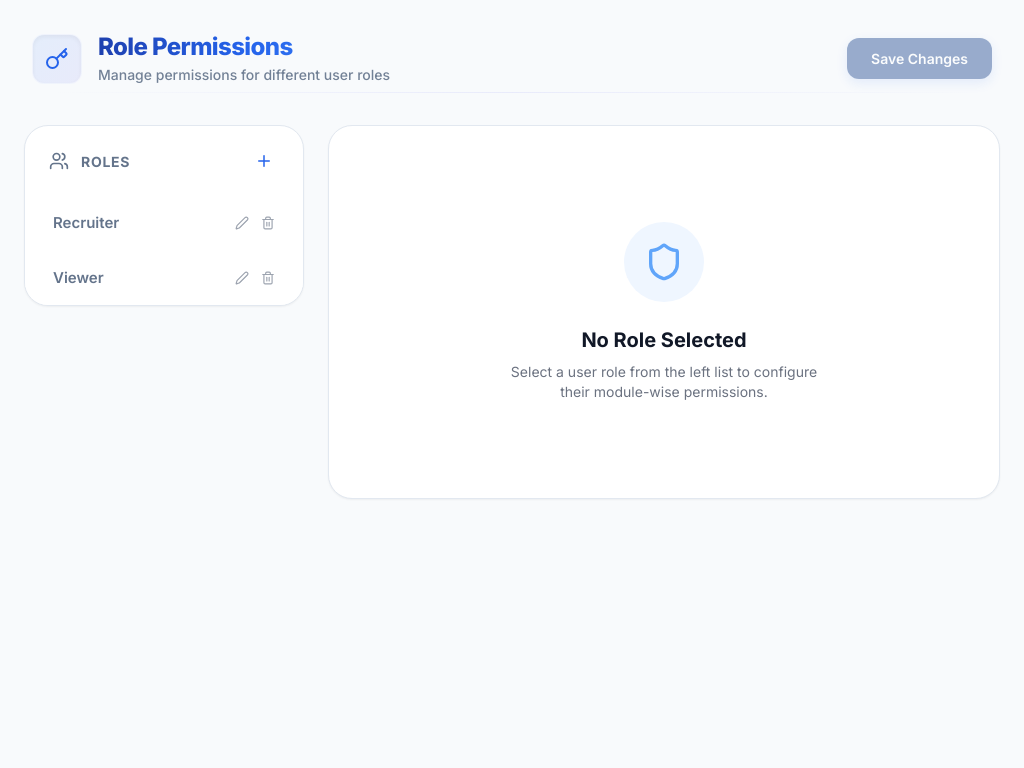
Test: blocks saving after a failed load and allows retrying that role
Click the button "Recruiter": [86, 223] box [53,212,119,234]
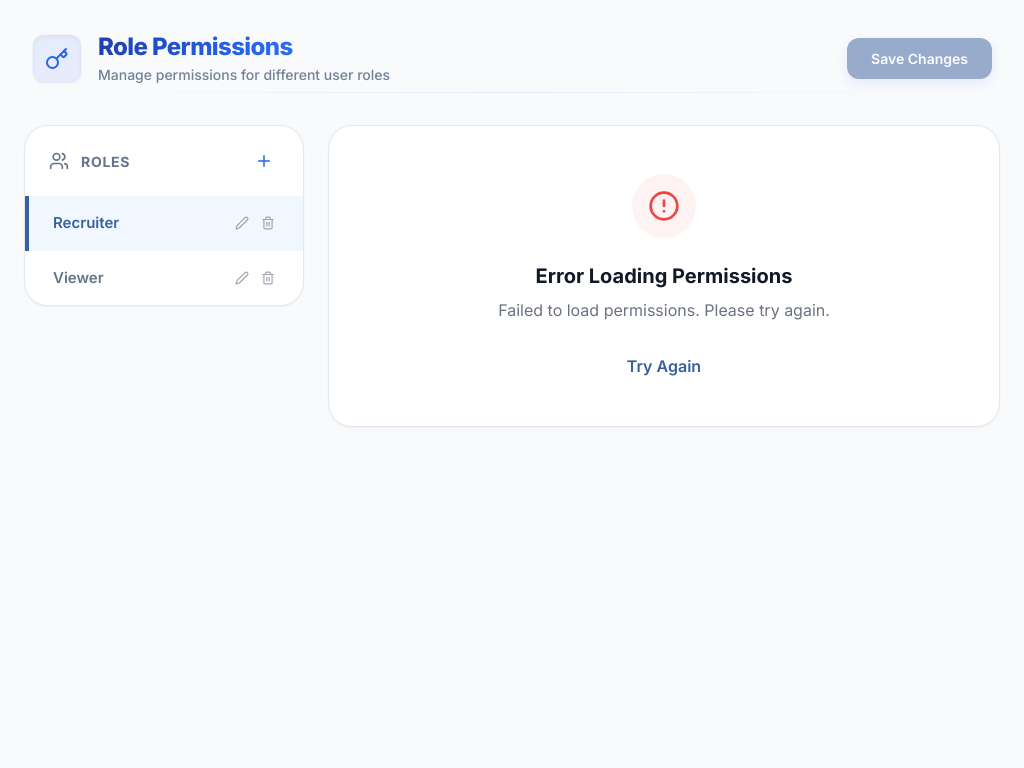
Check: the button "Save Changes" is disabled, box [847,38,992,79]
Check: the text "Failed to load permissions. Please try again." is shown, box [472,298,856,322]
Click the button "Try Again": [664, 366] box [627,354,701,378]
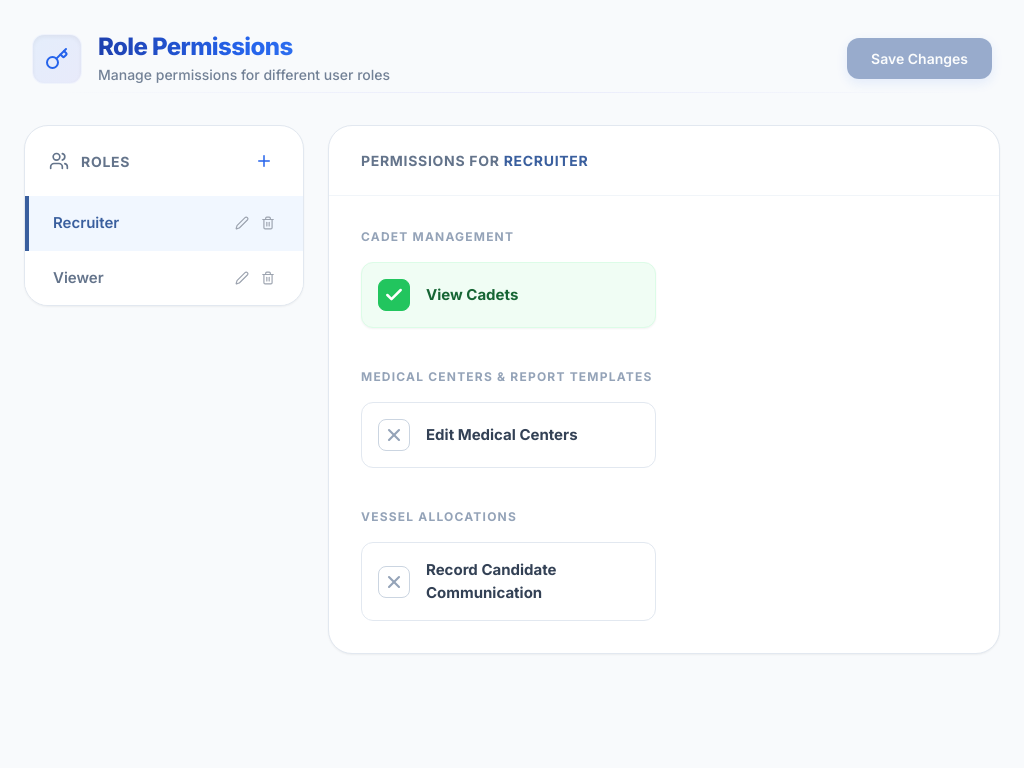
Check: the button "View Cadets" is shown, box [361,262,656,328]
